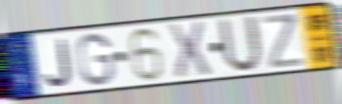6: (129, 25, 166, 84)
G: (76, 31, 116, 87)
J: (43, 37, 74, 89)
U: (216, 14, 265, 76)
X: (165, 20, 214, 82)
Z: (261, 11, 308, 71)
